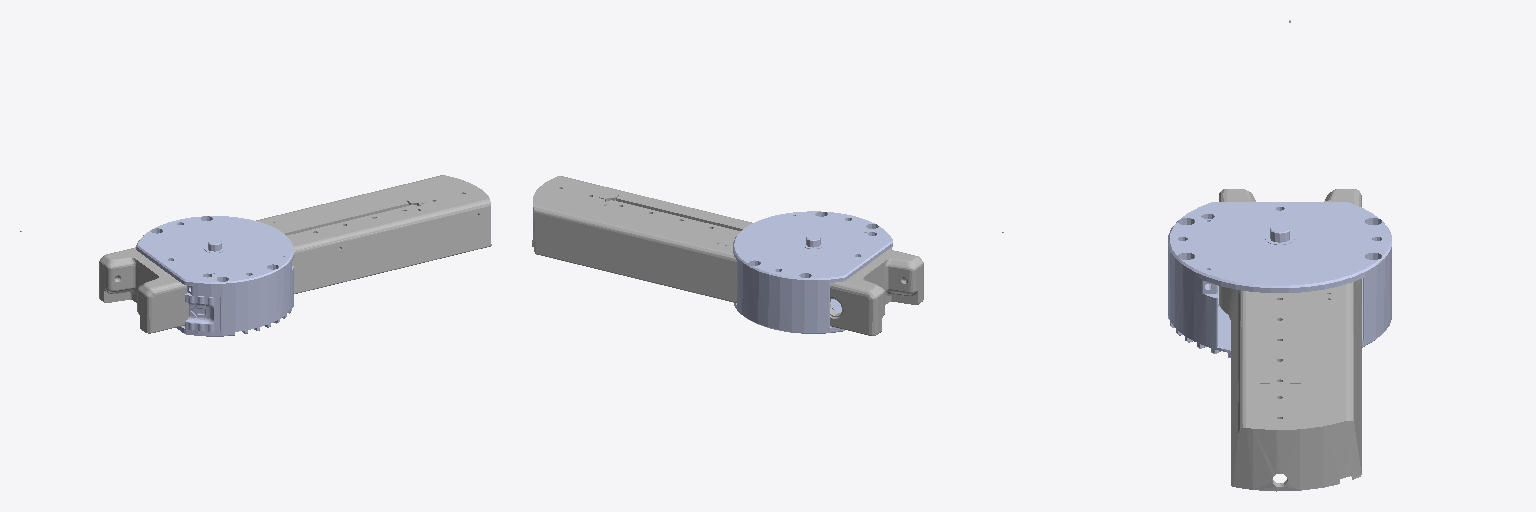
The robot description file, URDF, robot "2015_drawer_urdf_3a":
<robot
  name="2015_drawer_urdf_3a">
  <link
    name="base_link">
    <visual>
      <origin
        xyz="0 0 0"
        rpy="0 0 0" />
      <geometry>
        <mesh
          filename="package://2015_drawer_urdf_3a/meshes/base_link.STL" />
      </geometry>
      <material
        name="">
        <color
          rgba="0.792156862745098 0.819607843137255 0.933333333333333 1" />
      </material>
    </visual>
    <collision>
      <origin
        xyz="0 0 0"
        rpy="0 0 0" />
      <geometry>
        <mesh
          filename="package://2015_drawer_urdf_3a/meshes/base_link.STL" />
      </geometry>
    </collision>
  </link>
  <link
    name="Rotation_link">
    <visual>
      <origin
        xyz="0 0 0"
        rpy="0 0 0" />
      <geometry>
        <mesh
          filename="package://2015_drawer_urdf_3a/meshes/Rotation_link.STL" />
      </geometry>
      <material
        name="">
        <color
          rgba="0.792156862745098 0.819607843137255 0.933333333333333 1" />
      </material>
    </visual>
    <collision>
      <origin
        xyz="0 0 0"
        rpy="0 0 0" />
      <geometry>
        <mesh
          filename="package://2015_drawer_urdf_3a/meshes/Rotation_link.STL" />
      </geometry>
    </collision>
  </link>
  <joint
    name="Rotation_link"
    type="revolute">
    <origin
      xyz="0 0 0"
      rpy="0 0 0" />
    <parent
      link="base_link" />
    <child
      link="Rotation_link" />
    <axis
      xyz="0 0 1" />
    <limit
      lower="-3.14159"
      upper="3.14159"
      effort="0"
      velocity="0" />
  </joint>
  <link
    name="Translation_link">
    <visual>
      <origin
        xyz="0 0 0"
        rpy="0 0 0" />
      <geometry>
        <mesh
          filename="package://2015_drawer_urdf_3a/meshes/Translation_link.STL" />
      </geometry>
      <material
        name="">
        <color
          rgba="0.752941176470588 0.752941176470588 0.752941176470588 1" />
      </material>
    </visual>
    <collision>
      <origin
        xyz="0 0 0"
        rpy="0 0 0" />
      <geometry>
        <mesh
          filename="package://2015_drawer_urdf_3a/meshes/Translation_link.STL" />
      </geometry>
    </collision>
  </link>
  <joint
    name="Translation_link"
    type="prismatic">
    <origin
      xyz="0 0 0"
      rpy="0 0 0" />
    <parent
      link="Rotation_link" />
    <child
      link="Translation_link" />
    <axis
      xyz="1 0 0" />
    <limit
      lower="-0.2"
      upper="0"
      effort="0"
      velocity="0" />
  </joint>
  <link
    name="dummy_link">
    <visual>
      <origin
        xyz="0 0 0"
        rpy="0 0 0" />
      <geometry>
        <mesh
          filename="package://2015_drawer_urdf_3a/meshes/dummy_link.STL" />
      </geometry>
      <material
        name="">
        <color
          rgba="0.792156862745098 0.819607843137255 0.933333333333333 1" />
      </material>
    </visual>
    <collision>
      <origin
        xyz="0 0 0"
        rpy="0 0 0" />
      <geometry>
        <mesh
          filename="package://2015_drawer_urdf_3a/meshes/dummy_link.STL" />
      </geometry>
    </collision>
  </link>
  <joint
    name="dummy_link"
    type="revolute">
    <origin
      xyz="-0.192576 0.0063436 0.11251"
      rpy="1.571 0 0" />
    <parent
      link="Translation_link" />
    <child
      link="dummy_link" />
    <axis
      xyz="0 1 0" />
    <limit
      lower="0"
      upper="0"
      effort="0"
      velocity="0" />
  </joint>
</robot>

--- Facts derived from the render (not from the file) ---
Views: 3 orthographic renders of the robot side by side, from view 1: azimuth 30°, elevation 25°; view 2: azimuth 150°, elevation 25°; view 3: azimuth 270°, elevation 25°.
Model 2015_drawer_urdf_3a with 4 links and 3 joints (2 revolute, 1 prismatic), rooted at base_link, posed all joints at 0.
Visible links, largest first — view 1: Translation_link, Rotation_link; view 2: Translation_link, Rotation_link; view 3: Translation_link, Rotation_link.
Boxes of the visible links, bbox=[...] form: Translation_link: bbox=[99, 175, 491, 333]; Rotation_link: bbox=[136, 216, 293, 336]; Translation_link: bbox=[532, 176, 923, 335]; Rotation_link: bbox=[733, 211, 892, 333]; Translation_link: bbox=[1219, 189, 1361, 491]; Rotation_link: bbox=[1168, 202, 1391, 357].
Bounding box of the posed robot: 0.4631 × 0.1395 × 0.1197 m (x, y, z).
Meshes: 4 distinct files referenced, 3 mesh visuals loaded (3 binary STL); not drawn: 1 (reference not matched to a file when rendering).
